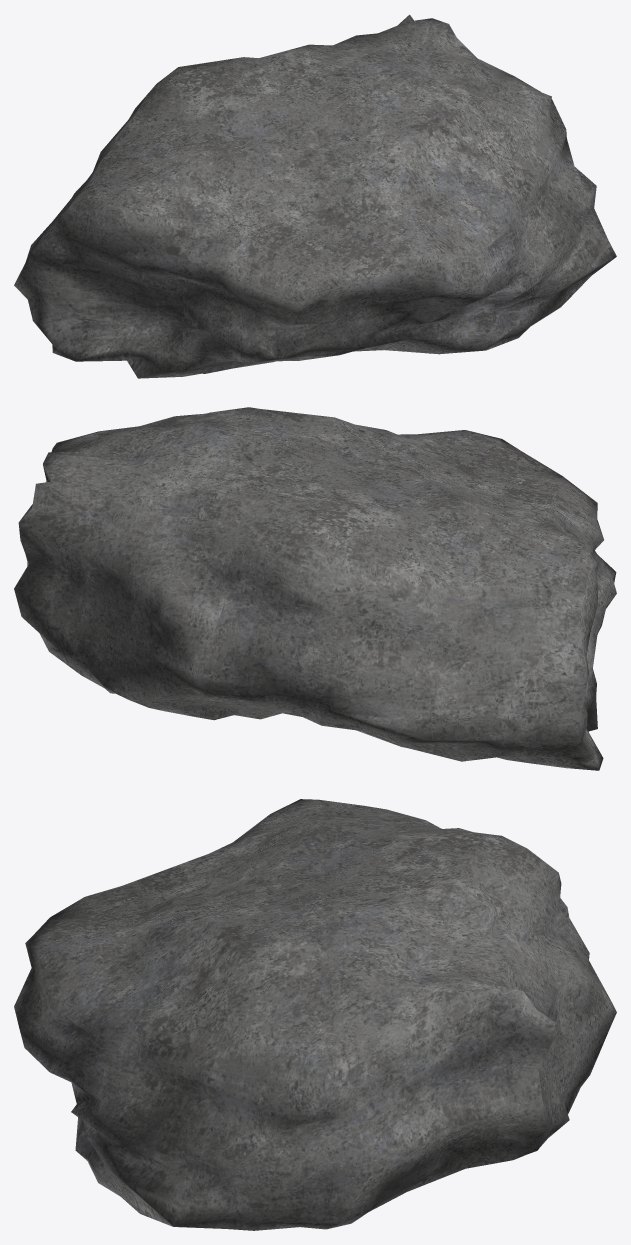
Rendered from SM_Rock_01.FBX.
The picture shows the model from 3 angles, top to bottom: view 1: azimuth 30°, elevation 25°; view 2: azimuth 150°, elevation 25°; view 3: azimuth 270°, elevation 25°; orthographic projection. The views are drawn at different scales.
Visible parts, largest first — view 1: SM_Rock_01; view 2: SM_Rock_01; view 3: SM_Rock_01.
Boxes of the visible parts, <box> form: SM_Rock_01: <box>14,14,616,378</box>; SM_Rock_01: <box>14,407,616,770</box>; SM_Rock_01: <box>14,799,616,1230</box>.
Size of the model in its own units: 2.44 by 0.997 by 2.01.
1 material, 1 textured.
